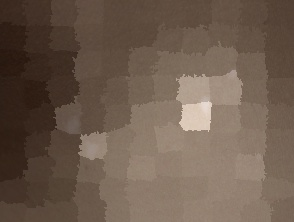vitiligo: (26, 43, 270, 195)
